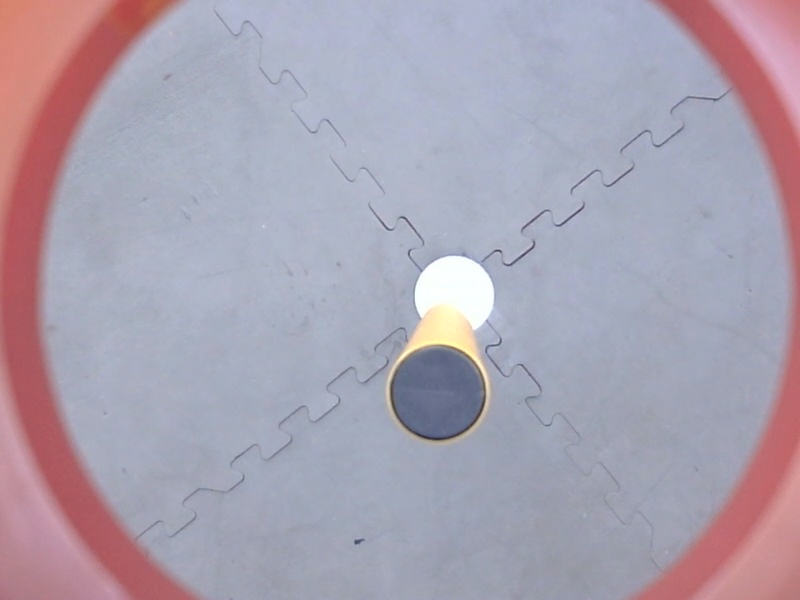tip: (379, 336, 497, 448)
